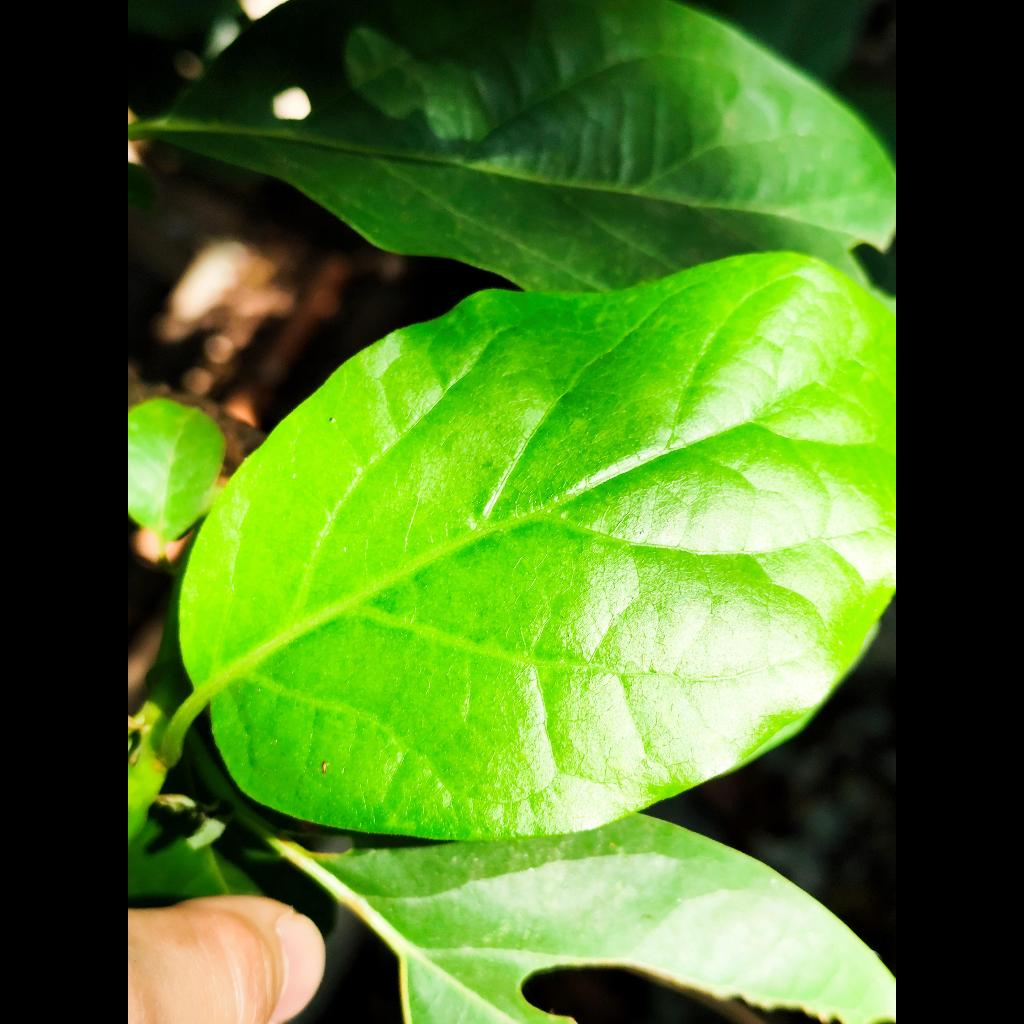Healthy: (167, 253, 896, 840)
